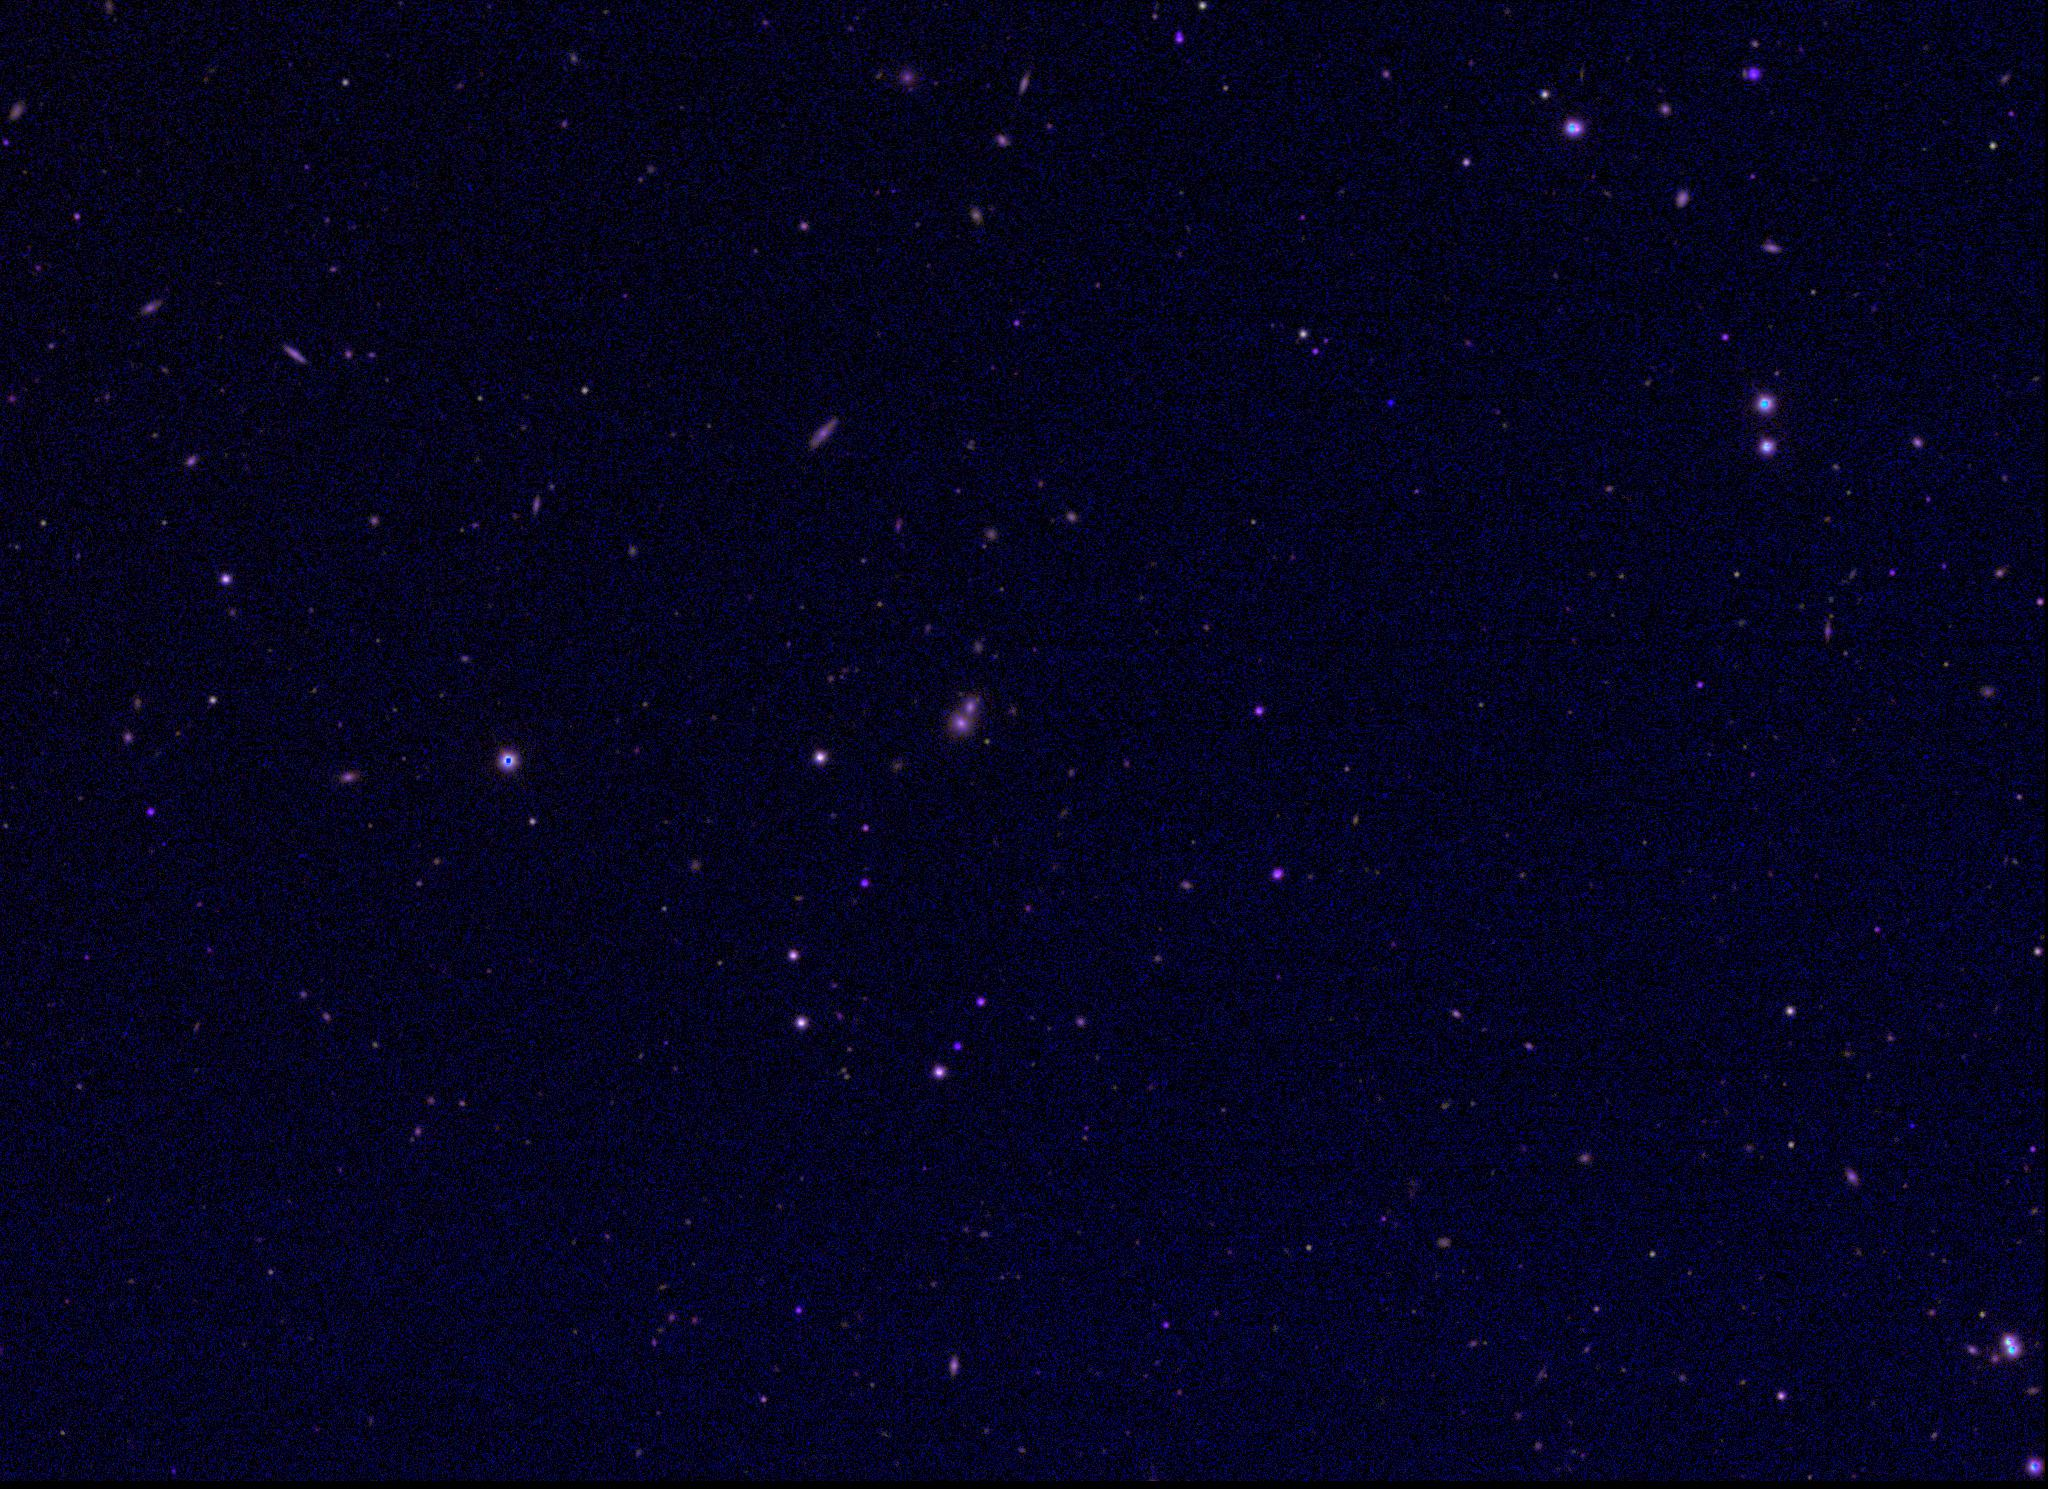L: (1383, 395, 1398, 407)
